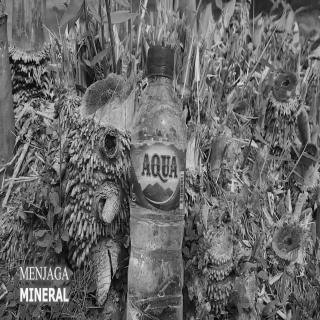plastic_bottles: (125, 43, 190, 320)
